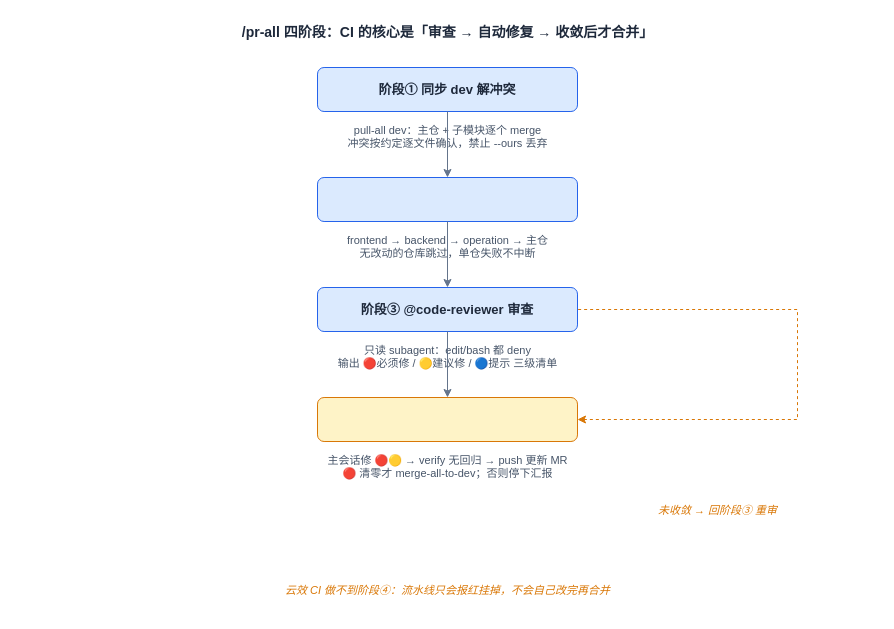
Some shapes in this 894 by 629 pixel diagram are drawn without their labels. Each missing label, with the box of its shape:
阶段② 建 MR 到 dev: (316, 176, 578, 222)
阶段④ 自动修复 + 收敛后才合并: (316, 396, 578, 442)
